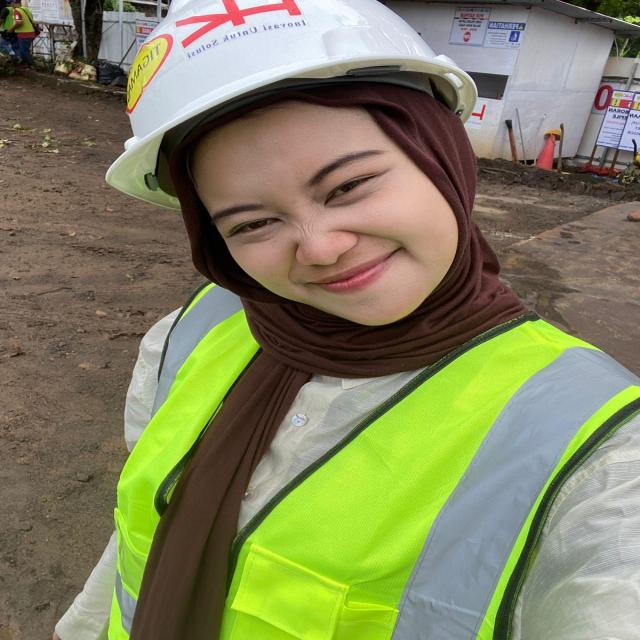safetyhelmet: (93, 8, 545, 348)
